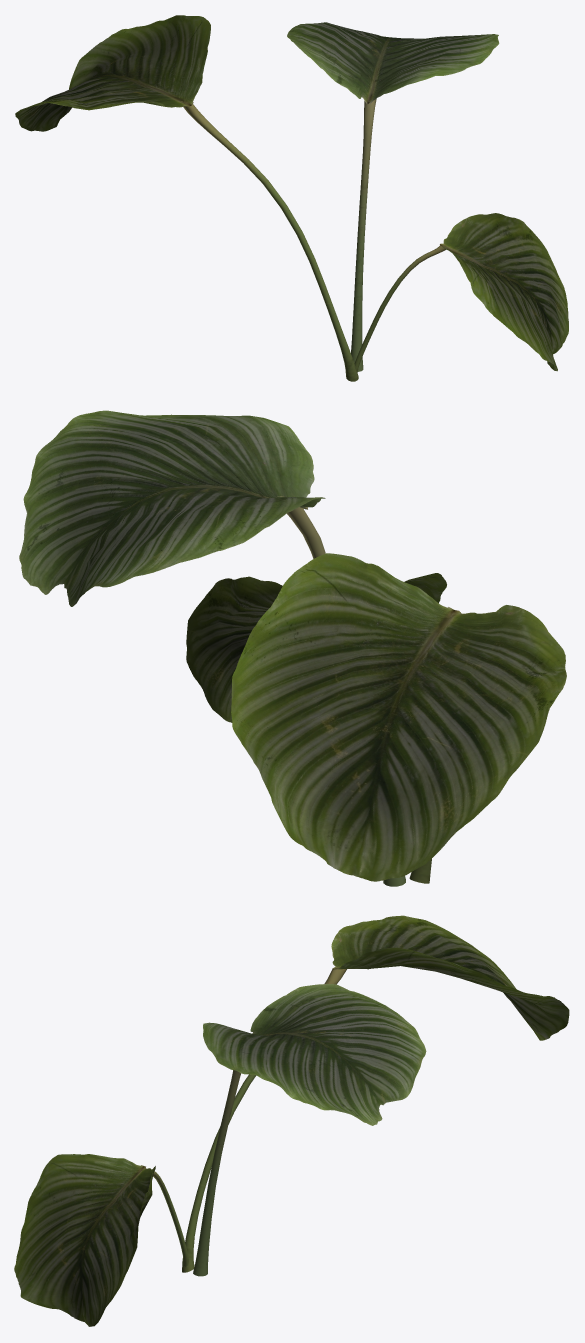
Rendered from calathea_orbifolia_01_05.glb.
3 renders of one model, top to bottom at view 1: azimuth 30°, elevation 25°; view 2: azimuth 150°, elevation 25°; view 3: azimuth 270°, elevation 25°, orthographic. The views are drawn at different scales.
Visible parts, largest first — view 1: calathea_orbifolia_01; view 2: calathea_orbifolia_01; view 3: calathea_orbifolia_01.
Part boxes in pixels (box(x1,y1,x2,y2)): calathea_orbifolia_01: box(15, 15, 568, 381); calathea_orbifolia_01: box(19, 410, 566, 886); calathea_orbifolia_01: box(14, 915, 569, 1326).
Bounding box in the file's own units: 0.2128 × 0.1516 × 0.2516.
Materials: 1 (1 with a texture image).
